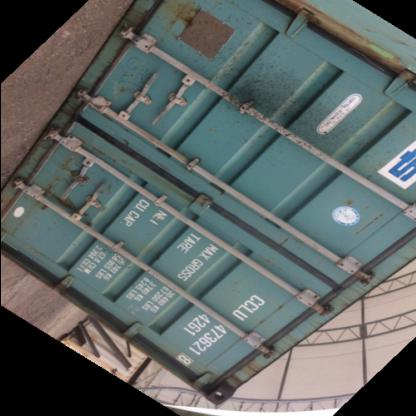Damage: (233, 55, 352, 148), (58, 148, 110, 233), (186, 3, 266, 49), (116, 58, 152, 116)
